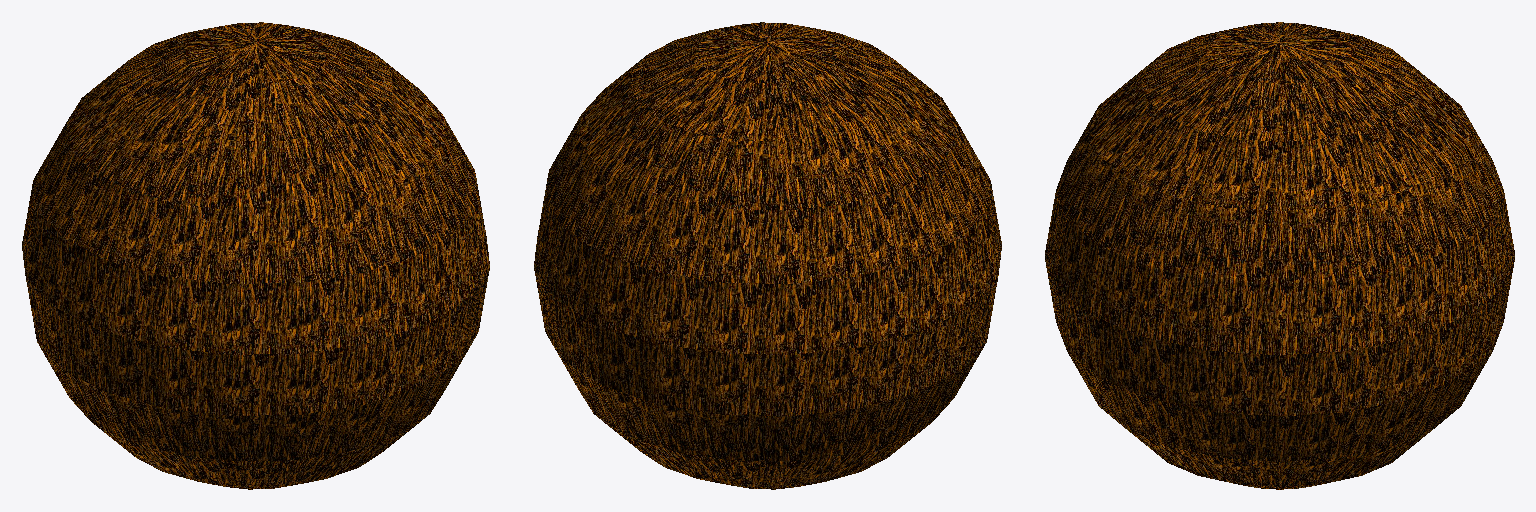
The picture shows the model from 3 angles: view 1: azimuth 30°, elevation 25°; view 2: azimuth 150°, elevation 25°; view 3: azimuth 270°, elevation 25°; orthographic projection.
Visible parts, largest first — view 1: Mesh1 SimpleSphere02_1 Model; view 2: Mesh1 SimpleSphere02_1 Model; view 3: Mesh1 SimpleSphere02_1 Model.
Part boxes in pixels (x1,y1,x2,y2): Mesh1 SimpleSphere02_1 Model: (22,22,489,489); Mesh1 SimpleSphere02_1 Model: (534,22,1001,489); Mesh1 SimpleSphere02_1 Model: (1045,22,1514,489).
Bounding box in the file's own units: 126 × 126 × 126.
Materials: 1 (1 with a texture image).